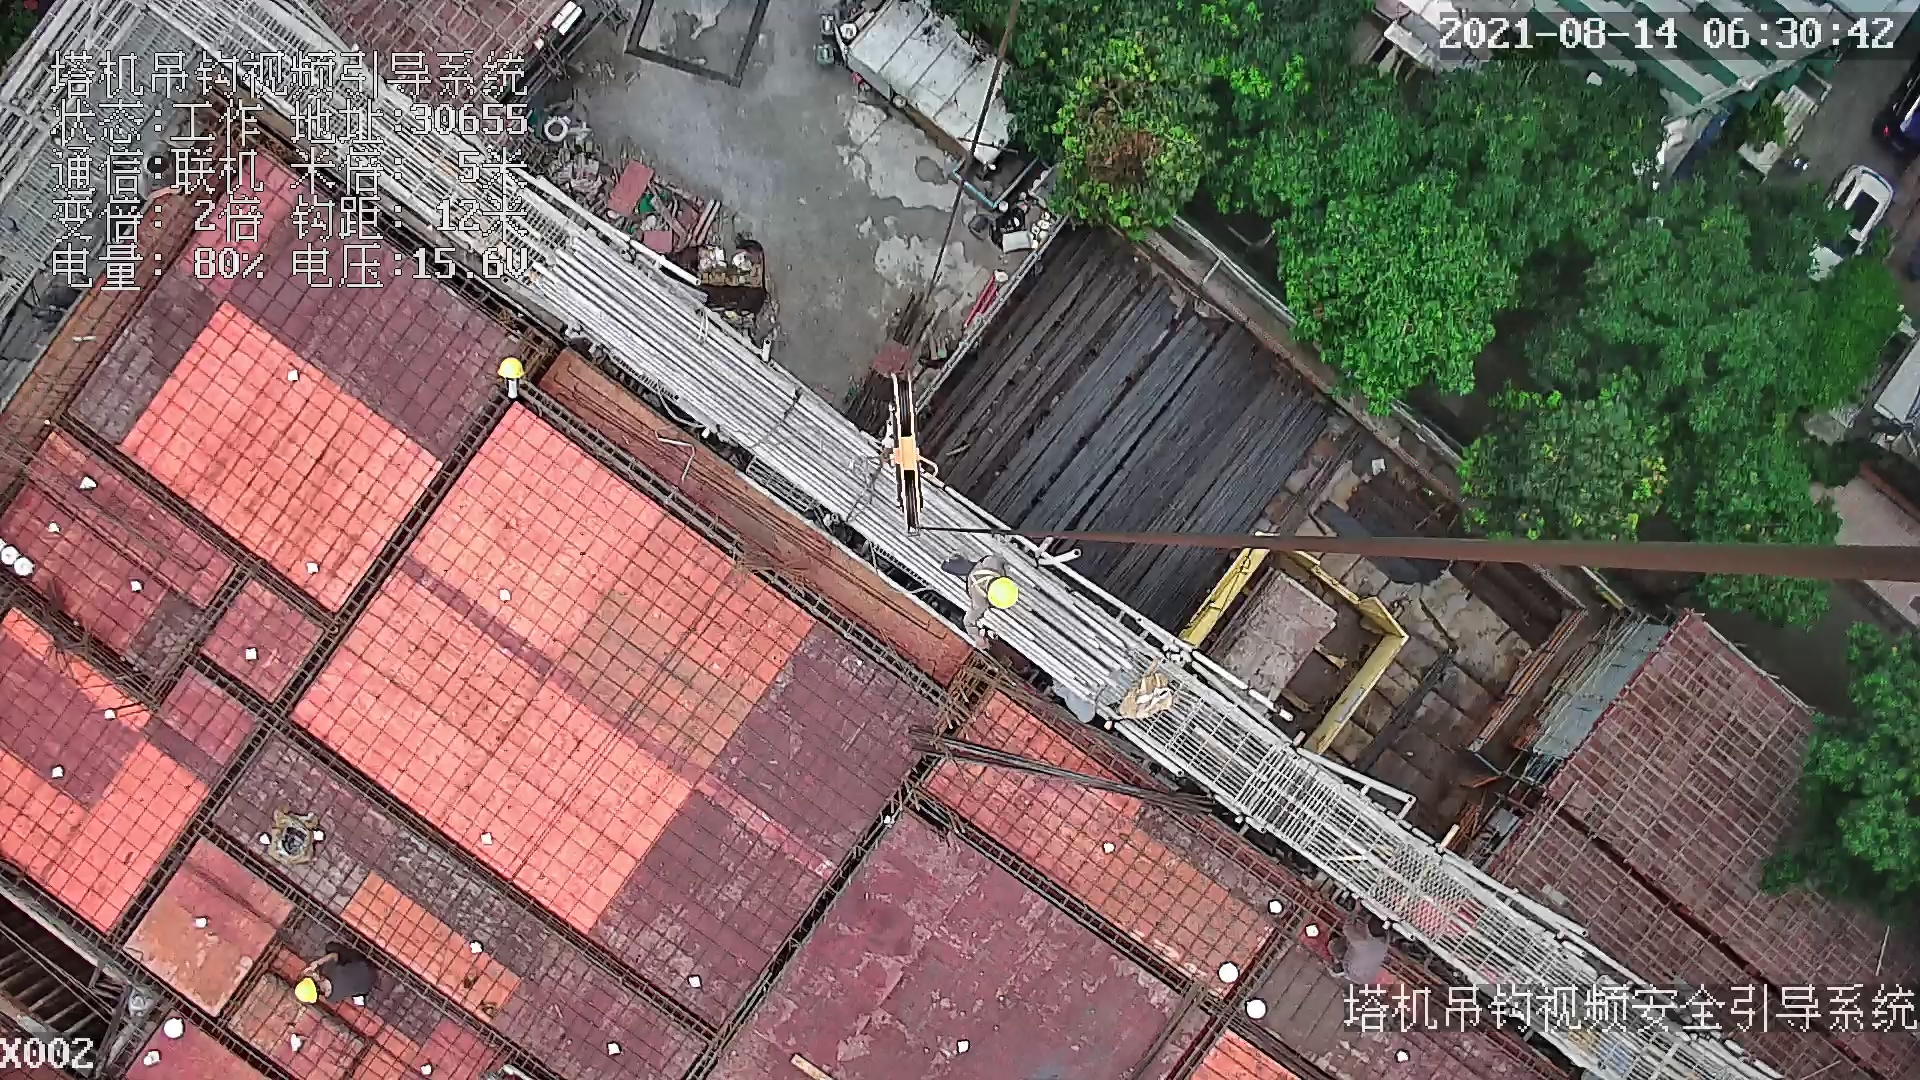helmet: (988, 576, 1017, 611), (293, 973, 320, 1006), (496, 356, 527, 378)
hook: (870, 369, 937, 536)
person: (942, 546, 1014, 650), (287, 933, 376, 1009)
rebar: (965, 233, 1318, 612)
